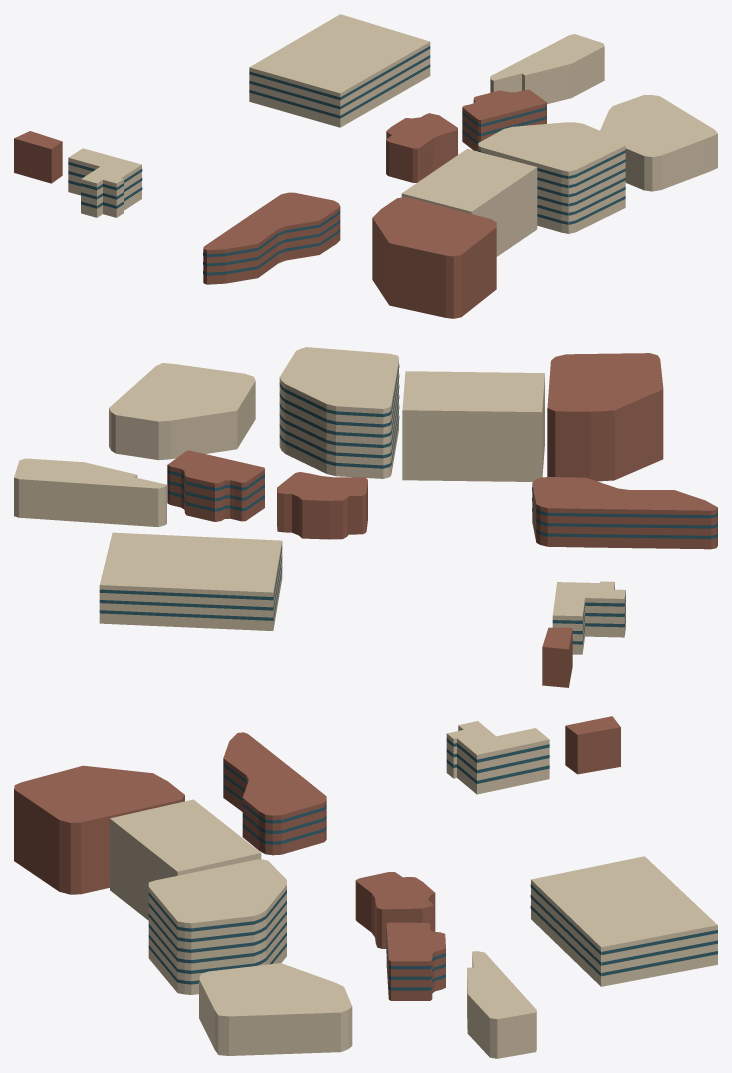
File: city_2_5.glb
3 renders of one model, top to bottom at view 1: azimuth 30°, elevation 25°; view 2: azimuth 150°, elevation 25°; view 3: azimuth 270°, elevation 25°, orthographic. The views are drawn at different scales.
Parts seen in each view (by area): view 1: city_2_5; view 2: city_2_5; view 3: city_2_5.
Part boxes in pixels (x1,y1,x2,y2): city_2_5: (14, 14, 717, 318); city_2_5: (14, 347, 717, 687); city_2_5: (14, 716, 717, 1058).
Size of the model in its own units: 246 by 27.2 by 242.
